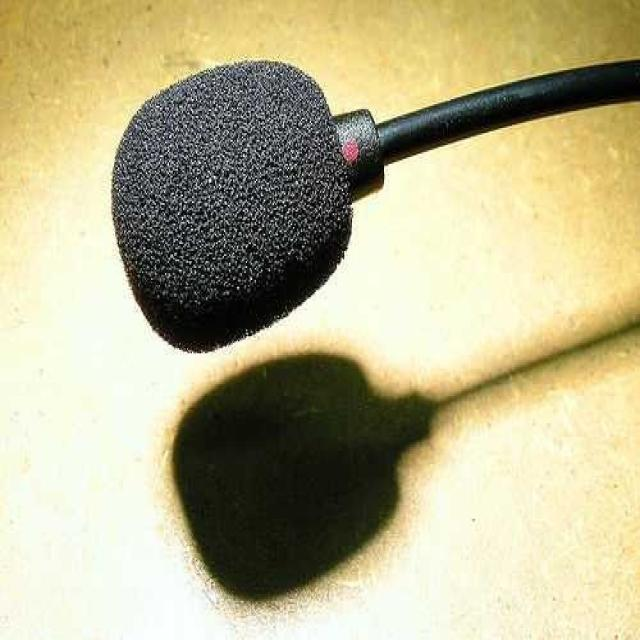microphone: (72, 54, 408, 364)
